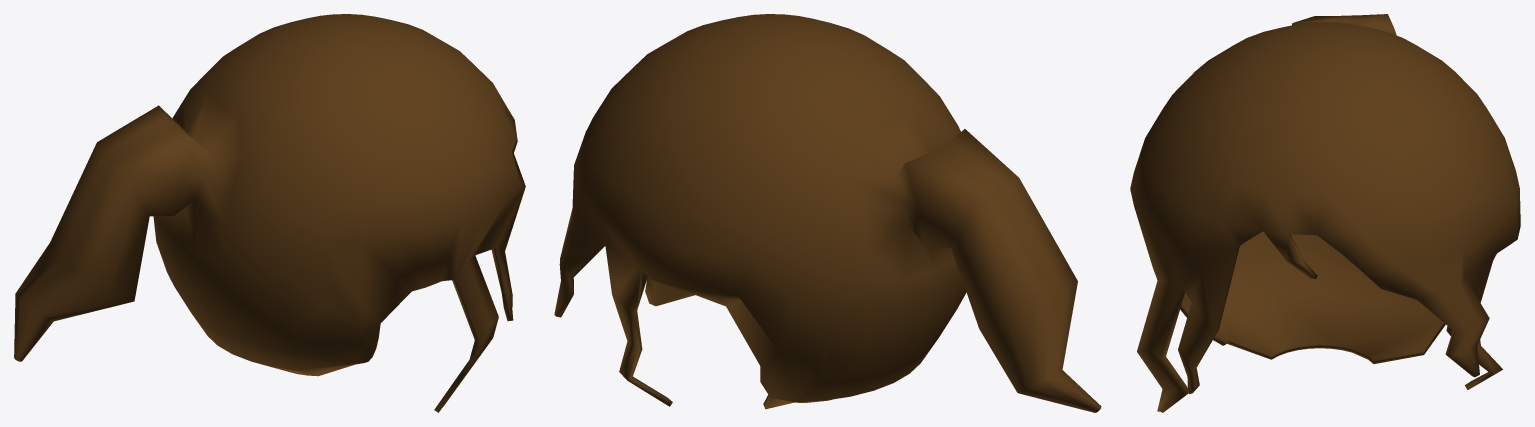
The model's file is StatiaHair.glb.
The picture shows the model from 3 angles, left to right: view 1: azimuth 30°, elevation 25°; view 2: azimuth 150°, elevation 25°; view 3: azimuth 270°, elevation 25°; orthographic projection. The views are drawn at different scales.
Visible parts, largest first — view 1: StatiaHair; view 2: StatiaHair; view 3: StatiaHair.
Part boxes in pixels (left/top/right/bottom): StatiaHair: left=14, top=14, right=525, bottom=412; StatiaHair: left=554, top=14, right=1101, bottom=412; StatiaHair: left=1130, top=14, right=1520, bottom=412.
Bounding box in the file's own units: 9.65 × 6.42 × 6.33.
